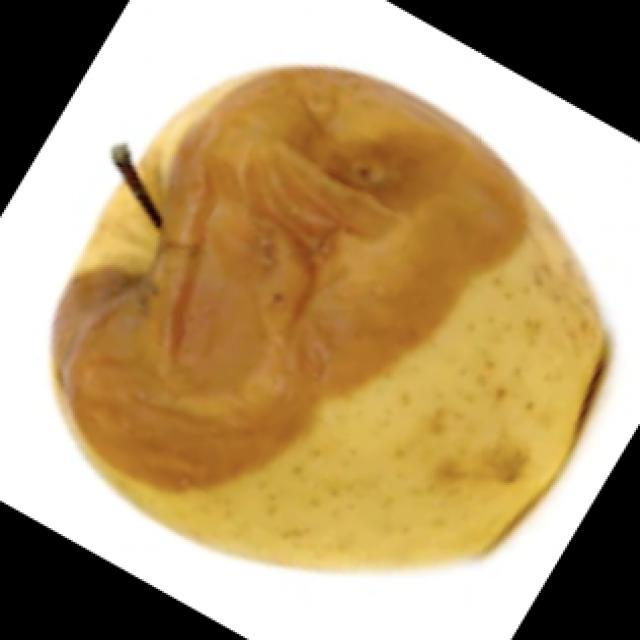Rotten: (92, 72, 613, 595)
